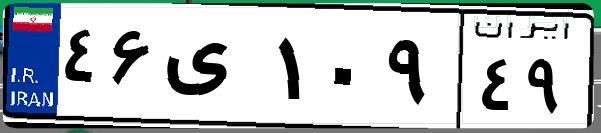0: (330, 28, 385, 110)
1: (270, 28, 330, 110)
4: (57, 26, 110, 100), (475, 38, 525, 113)
6: (110, 28, 158, 98)
9: (385, 28, 445, 110), (525, 38, 570, 115)
ی: (158, 20, 270, 120)
